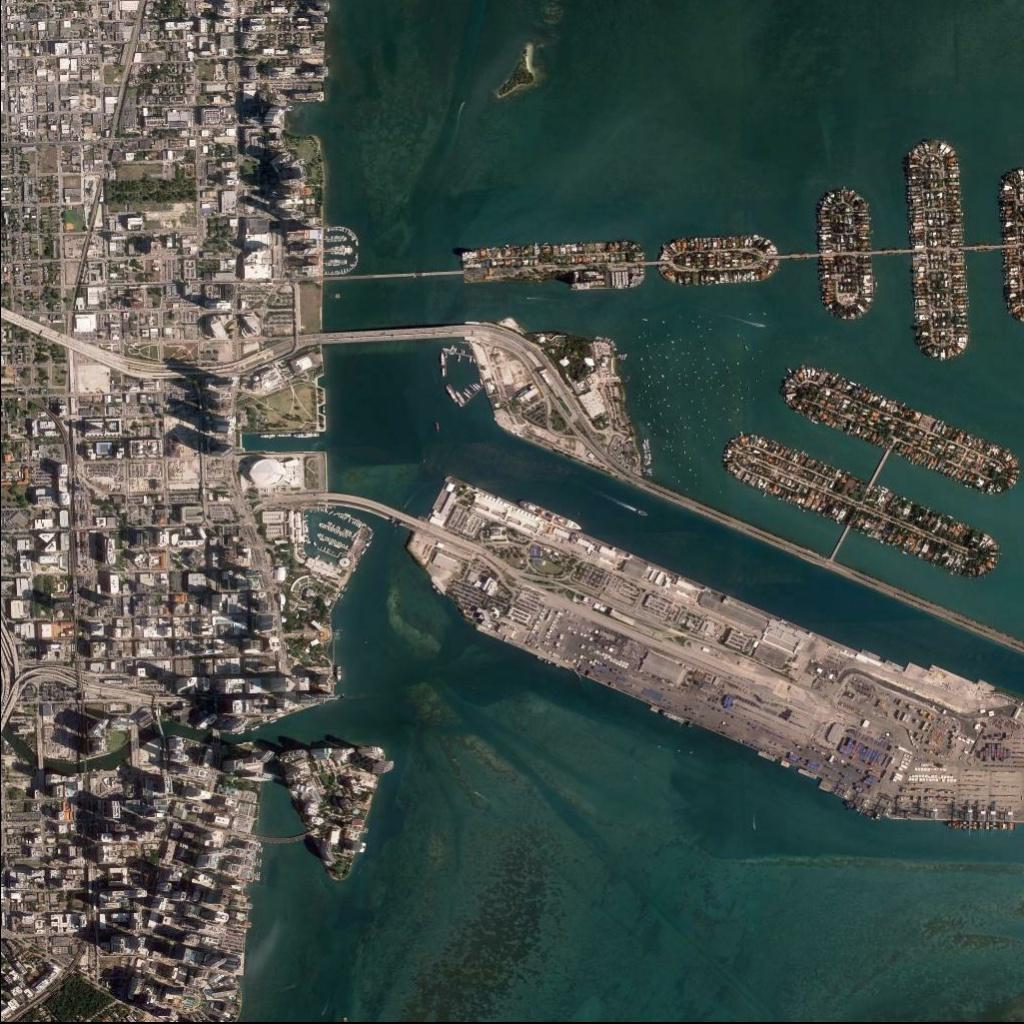harbor: (330, 478, 1024, 832), (323, 139, 1024, 372)
